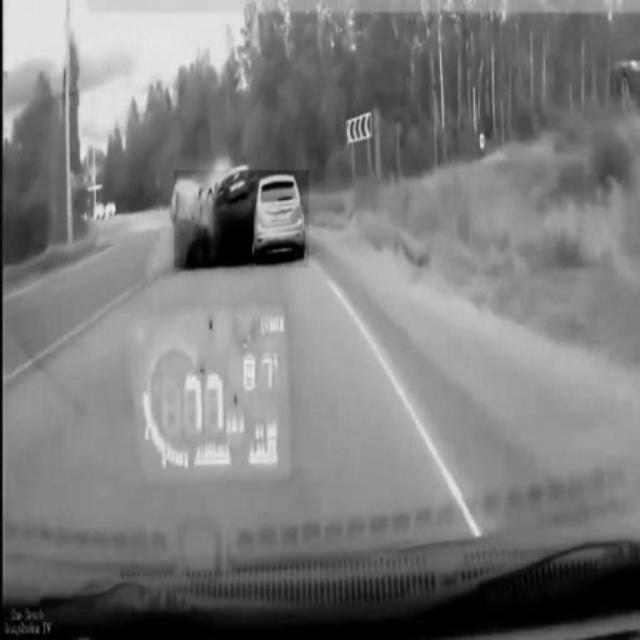accident: (175, 170, 309, 268)
